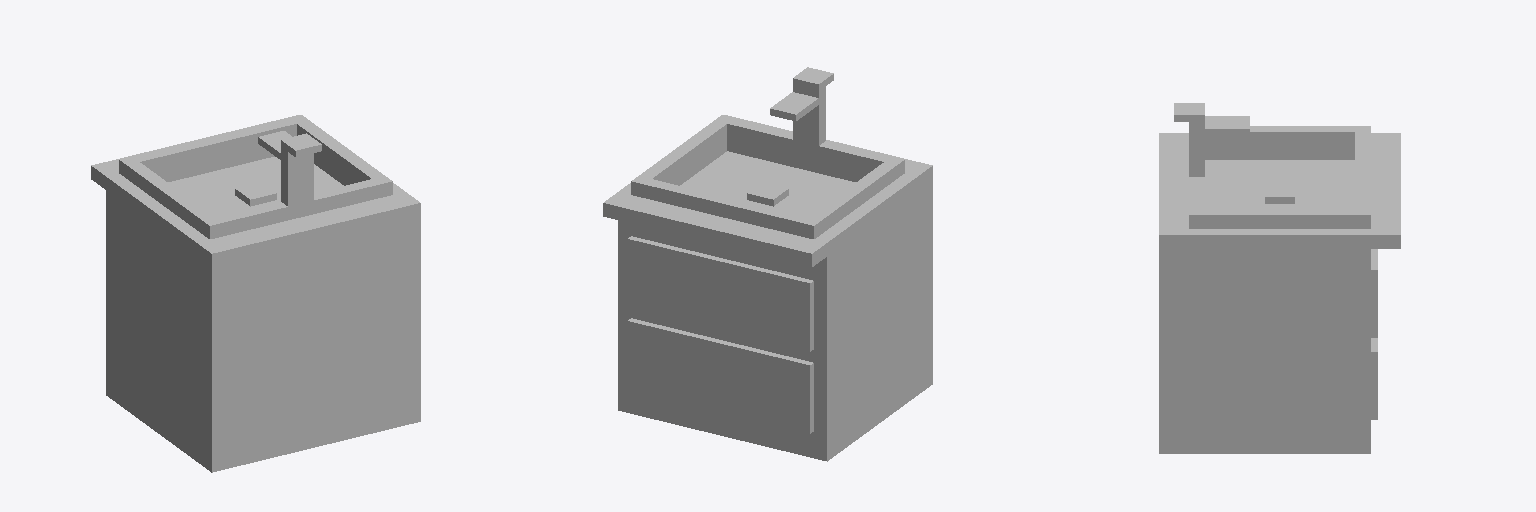
Rendered from evier_wood.obj.
3 renders of one model, left to right at view 1: azimuth 30°, elevation 25°; view 2: azimuth 150°, elevation 25°; view 3: azimuth 270°, elevation 25°, orthographic.
Visible parts, largest first — view 1: cube.019_cube.041, cube.004_cube.026; view 2: cube.019_cube.041, cube.004_cube.026; view 3: cube.019_cube.041, cube.004_cube.026.
Part boxes in pixels (bbox=[...]): cube.019_cube.041: bbox=[106, 115, 420, 472]; cube.004_cube.026: bbox=[91, 115, 420, 266]; cube.019_cube.041: bbox=[618, 67, 932, 461]; cube.004_cube.026: bbox=[603, 115, 932, 266]; cube.019_cube.041: bbox=[1159, 103, 1377, 453]; cube.004_cube.026: bbox=[1159, 133, 1400, 248].
Size of the model in its own units: 1 by 1.34 by 1.